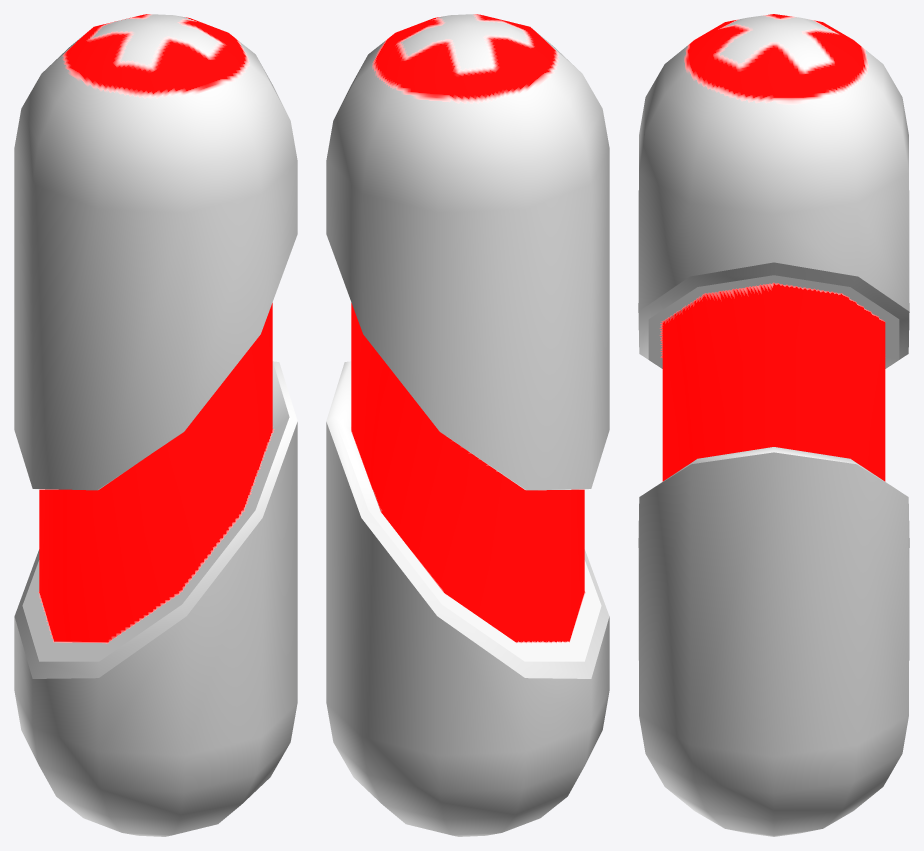
The model's file is pill_red.glb.
The picture shows the model from 3 angles, left to right: view 1: azimuth 30°, elevation 25°; view 2: azimuth 150°, elevation 25°; view 3: azimuth 270°, elevation 25°; orthographic projection.
Visible parts, largest first — view 1: Object047.001; view 2: Object047.001; view 3: Object047.001.
Boxes of the visible parts, box(x1,y1,x2,y2) form: Object047.001: box(14, 14, 297, 836); Object047.001: box(326, 14, 609, 836); Object047.001: box(638, 14, 909, 836).
Size of the model in its own units: 0.21 by 0.65 by 0.2.
Materials: 1 (1 with a texture image).
